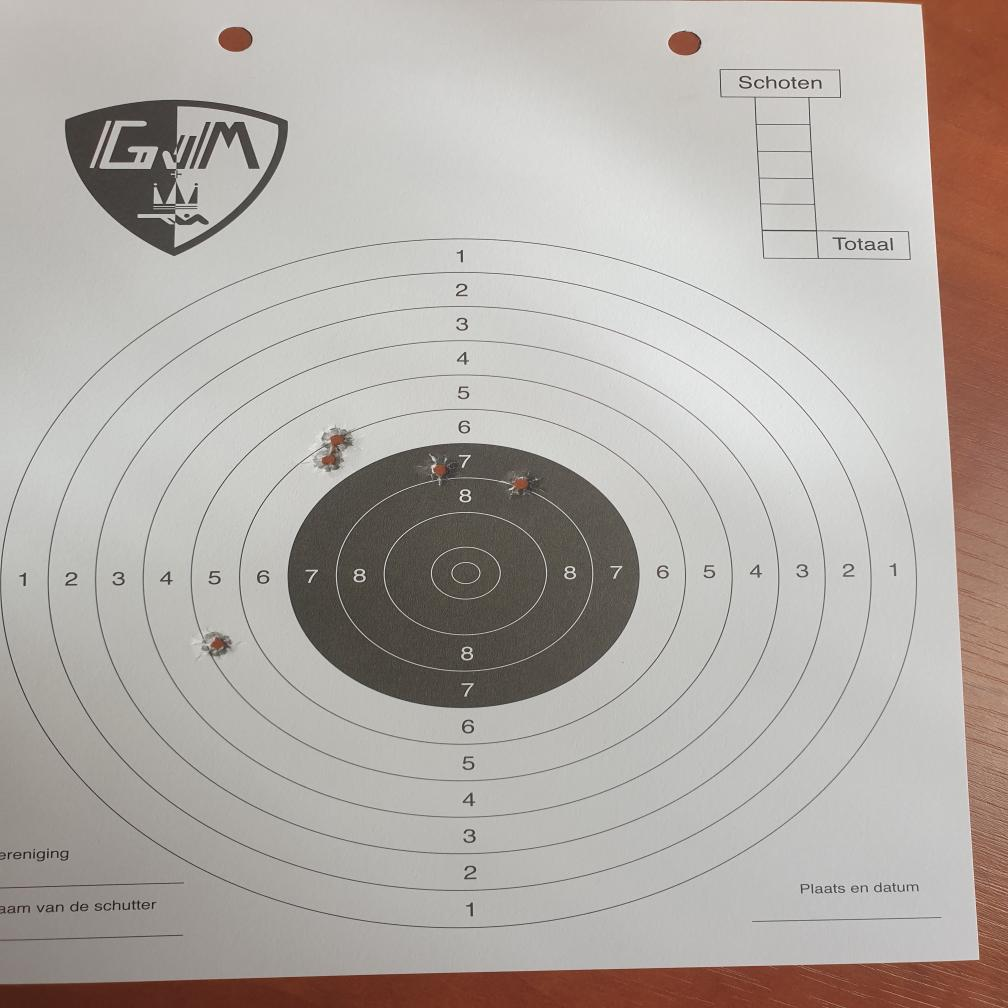5: (198, 631, 238, 661)
6: (317, 423, 360, 451), (309, 448, 348, 472)
8: (420, 455, 457, 487), (506, 472, 545, 500)
Target: (0, 238, 921, 932)
black_contour: (288, 442, 641, 708)
